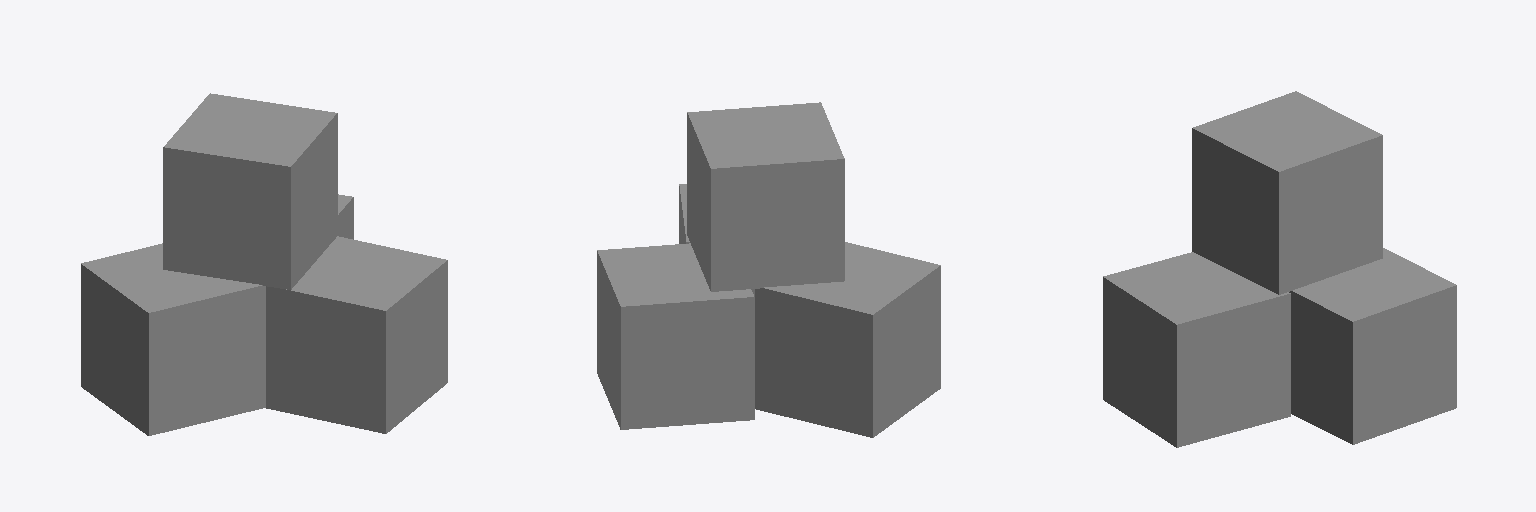
Rendered from Sugar_cubes.obj.
The picture shows the model from 3 angles: view 1: azimuth 30°, elevation 25°; view 2: azimuth 150°, elevation 25°; view 3: azimuth 270°, elevation 25°; orthographic projection.
Parts seen in each view (by area): view 1: cube.002, cube.001, cube, cube.003; view 2: cube, cube.002, cube.003; view 3: cube.002, cube.001, cube.003.
Part boxes in pixels (x1,y1,x2,y2): cube.002: (163,93,337,289); cube.001: (266,236,447,433); cube: (81,243,265,435); cube.003: (338,194,353,239); cube: (755,242,940,437); cube.002: (687,102,844,291); cube.003: (597,243,754,429); cube.002: (1192,91,1382,294); cube.001: (1103,252,1290,447); cube.003: (1289,248,1456,444).
Bounding box in the file's own units: 0.5957 × 0.5014 × 0.6519.